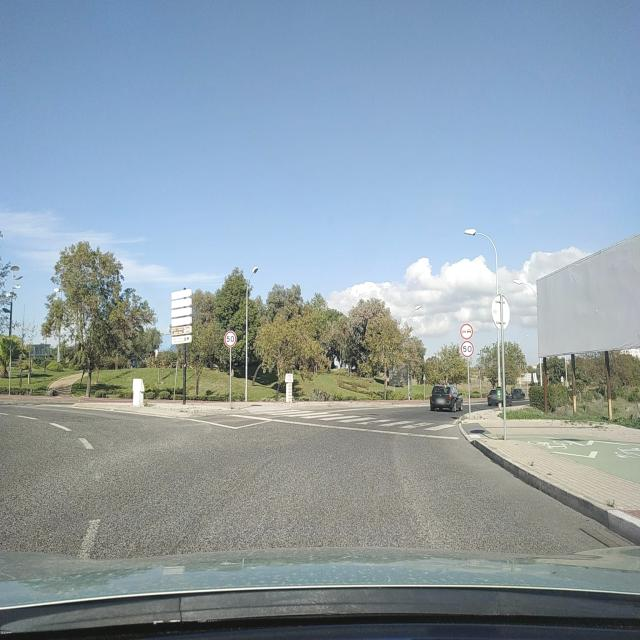car: (429, 384, 463, 412), (487, 387, 512, 407), (512, 387, 526, 400)
